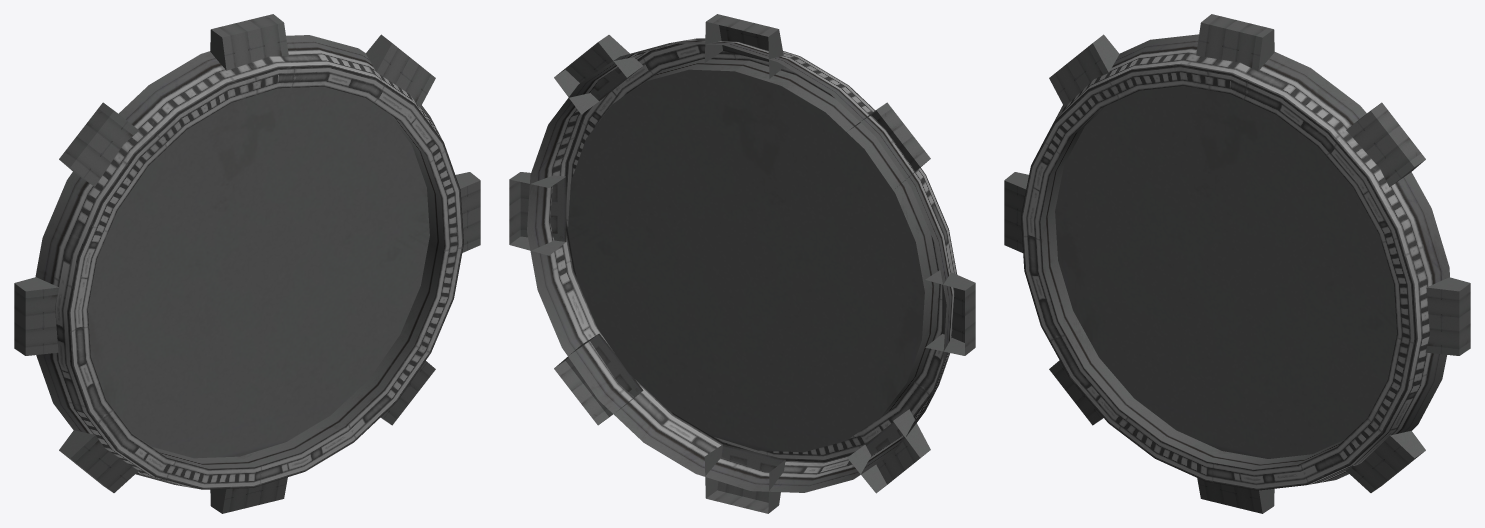
Rendered from Subway_Vents_Ring2_L1.fbx.
The picture shows the model from 3 angles, left to right: view 1: azimuth 30°, elevation 25°; view 2: azimuth 150°, elevation 25°; view 3: azimuth 330°, elevation 25°; orthographic projection.
Visible parts, largest first — view 1: polySurface1539; view 2: polySurface1539; view 3: polySurface1539.
Part boxes in pixels (x1,y1,x2,y2): polySurface1539: [14, 14, 480, 513]; polySurface1539: [509, 14, 975, 513]; polySurface1539: [1004, 14, 1470, 513].
Size of the model in its own units: 81.73 by 81.73 by 7.65.
